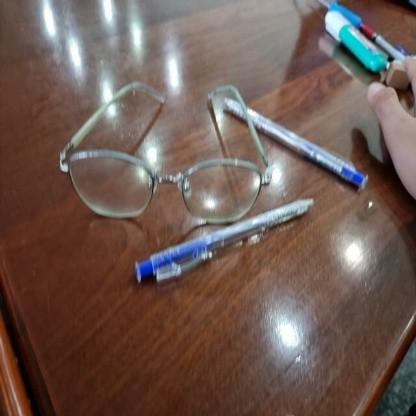not trash: (58, 78, 273, 232), (125, 198, 319, 288), (214, 86, 365, 198), (300, 0, 404, 76)
